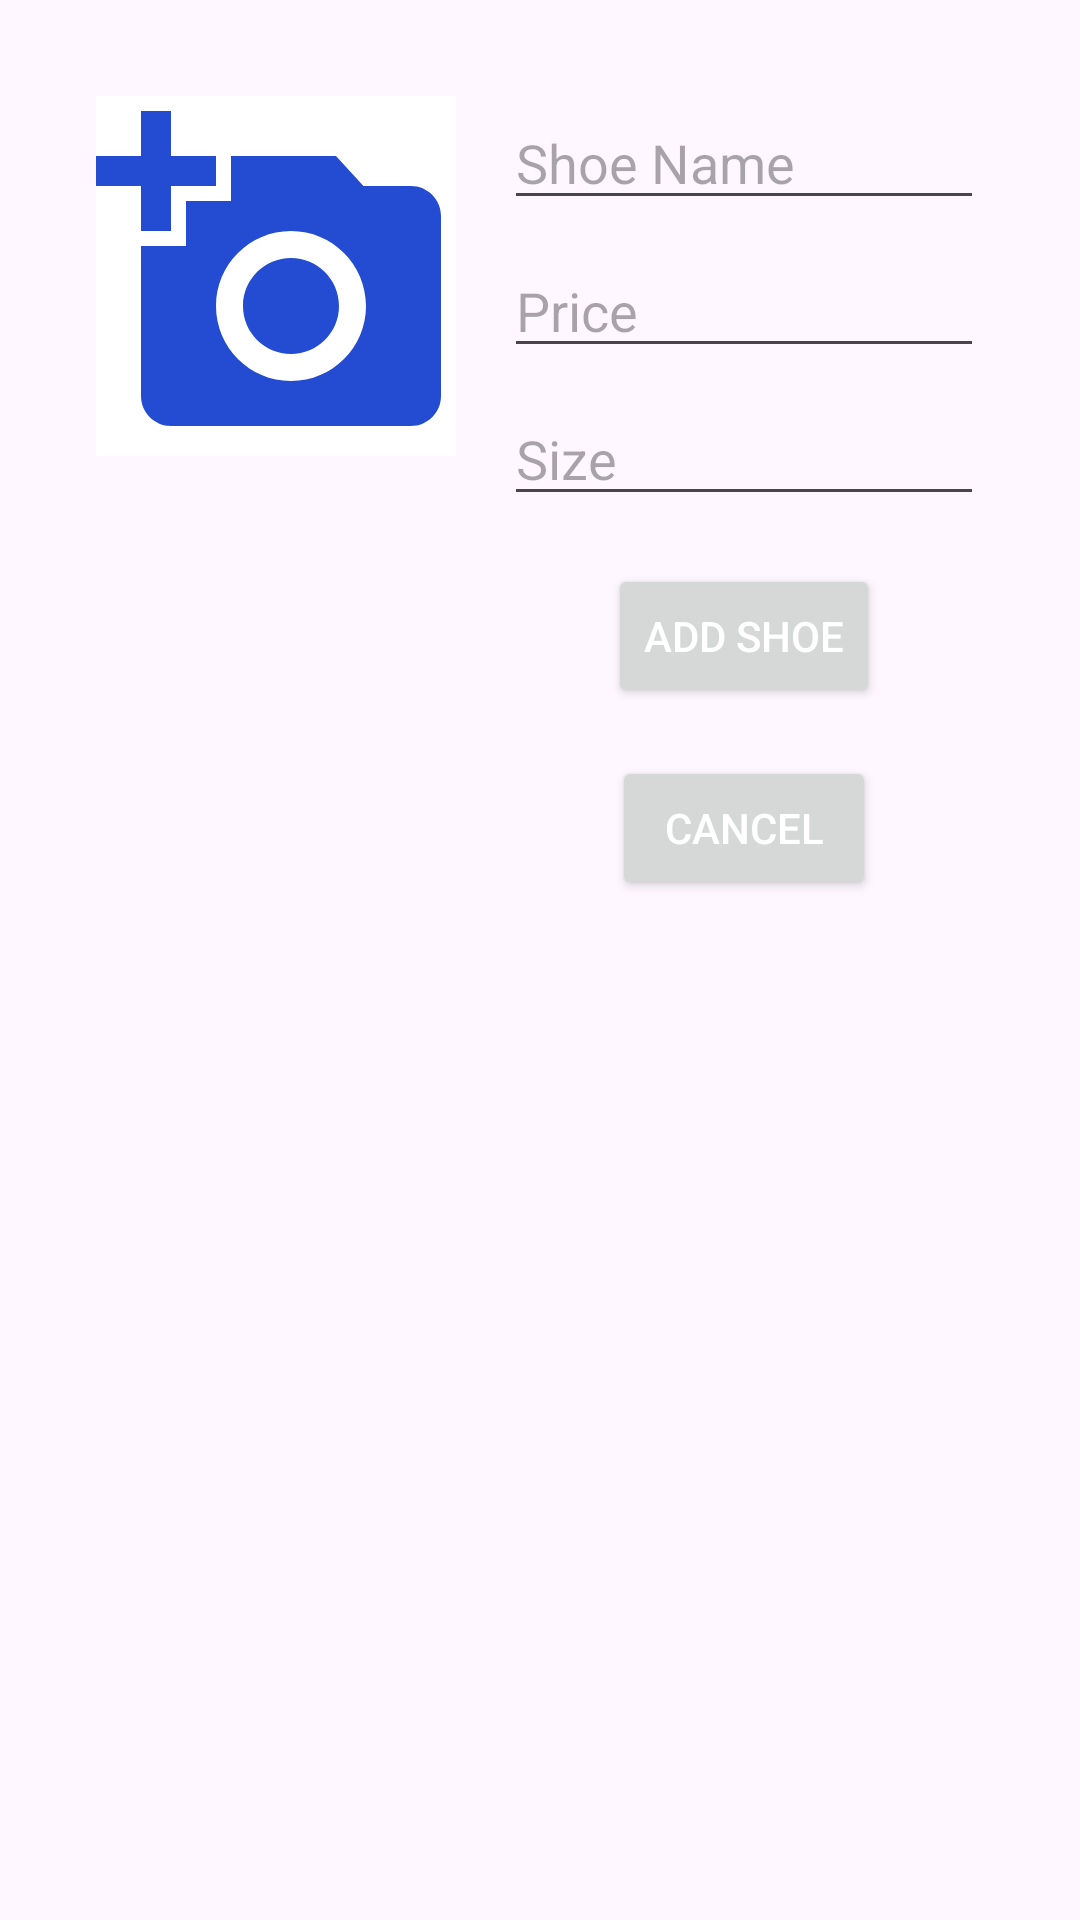

Point at icon controls on the screen. Image size 1080px×1920px, points as (x,y).
add photo: (268,268)
